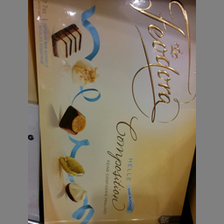chocolate: (33, 1, 196, 224)
